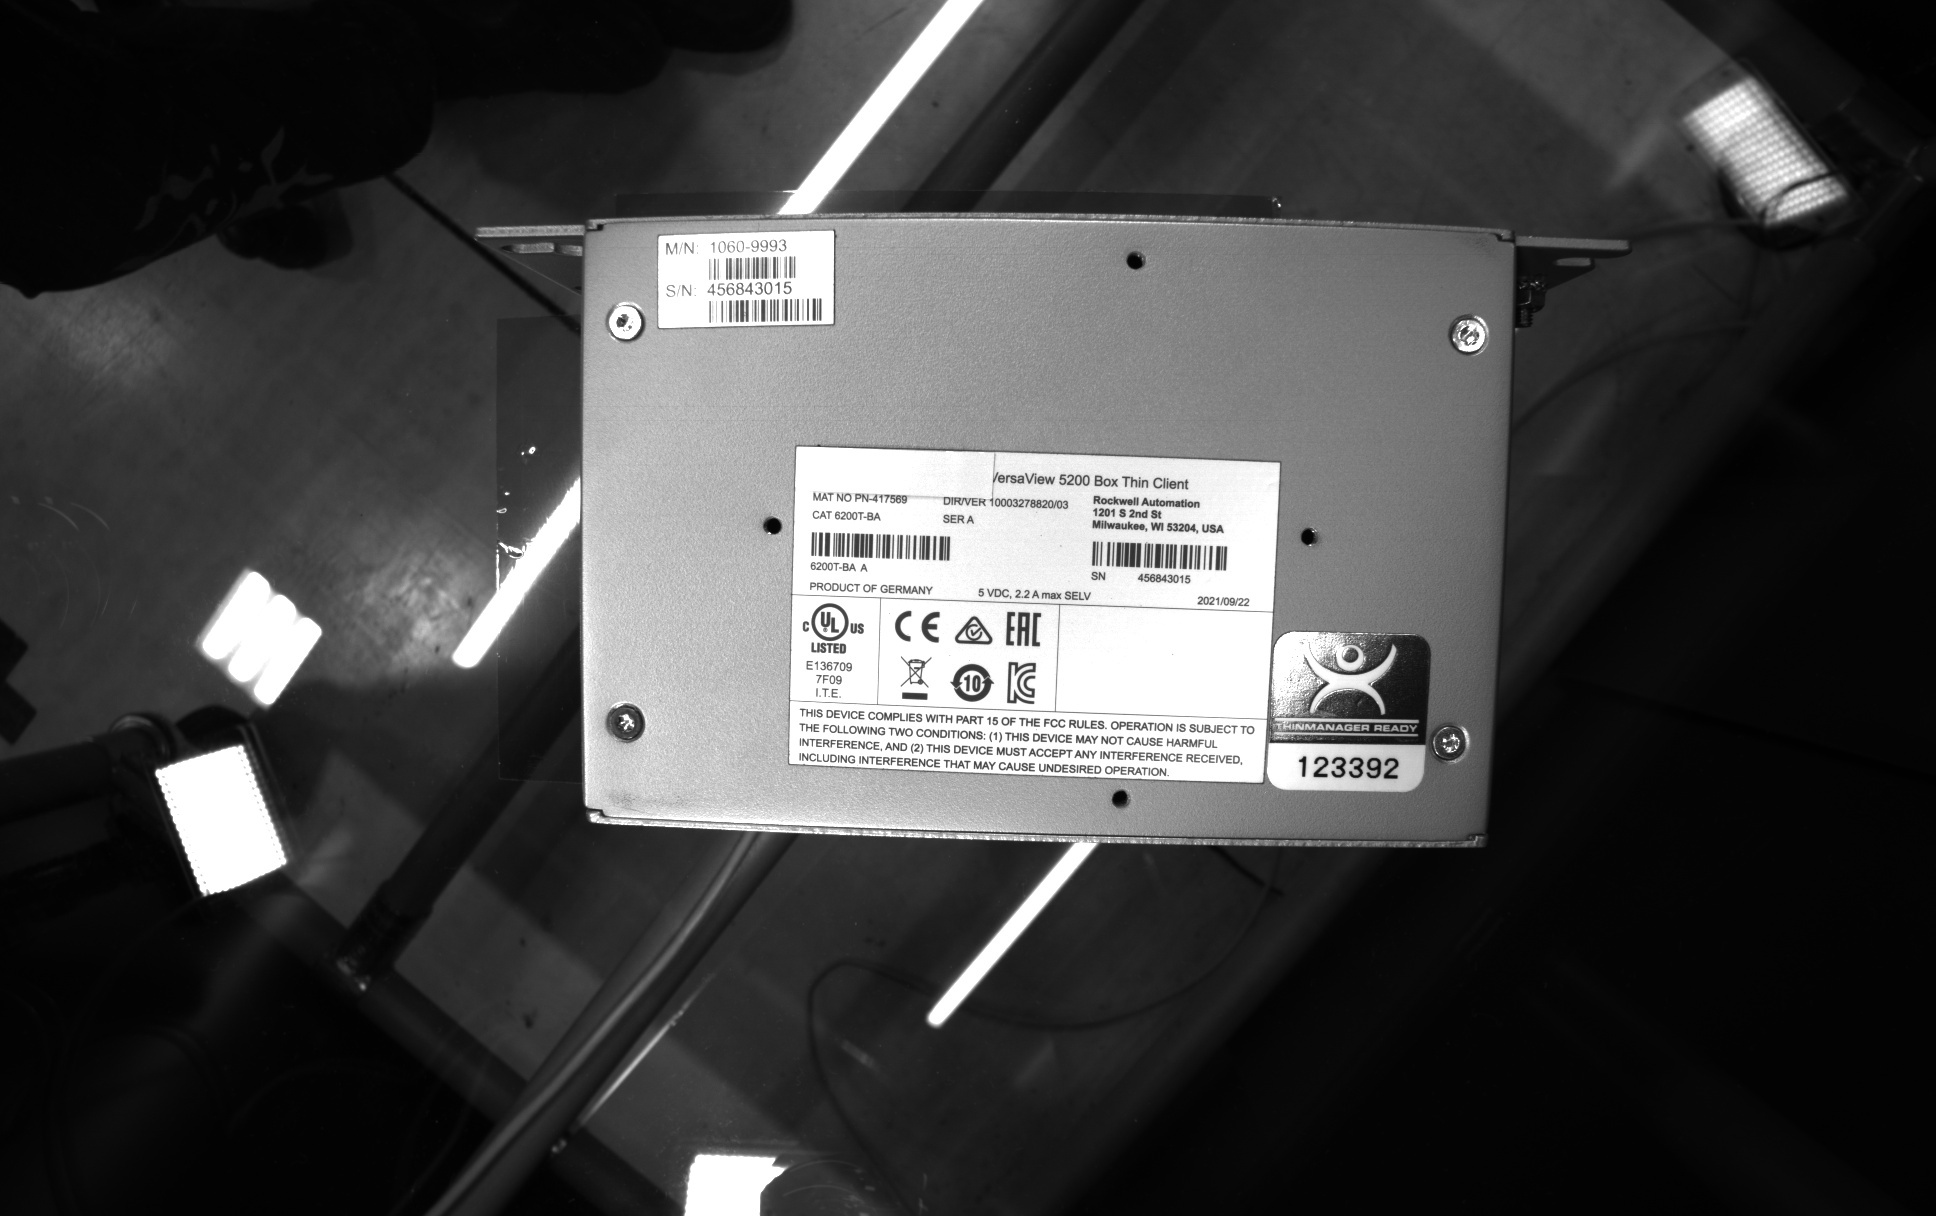Barcode: (1084, 534, 1234, 574), (805, 528, 958, 567), (700, 296, 827, 329), (699, 252, 798, 284)
CamTop: (560, 198, 1530, 873)
Label_Seriennummer: (777, 434, 1292, 794)
Loch_Montage: (1109, 242, 1149, 277), (754, 509, 790, 544), (1292, 518, 1327, 553), (1102, 783, 1136, 815)
Schraube: (1427, 714, 1477, 769), (600, 696, 651, 747), (1443, 307, 1491, 359), (601, 298, 649, 347)
